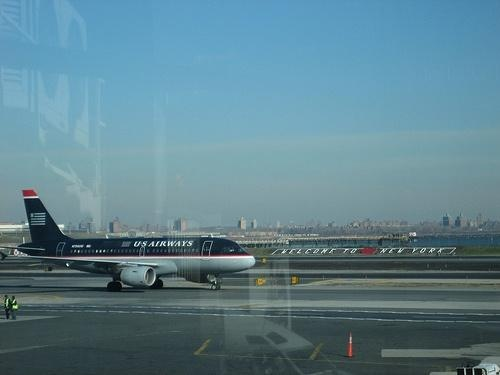aeroplane: (2, 189, 256, 294)
